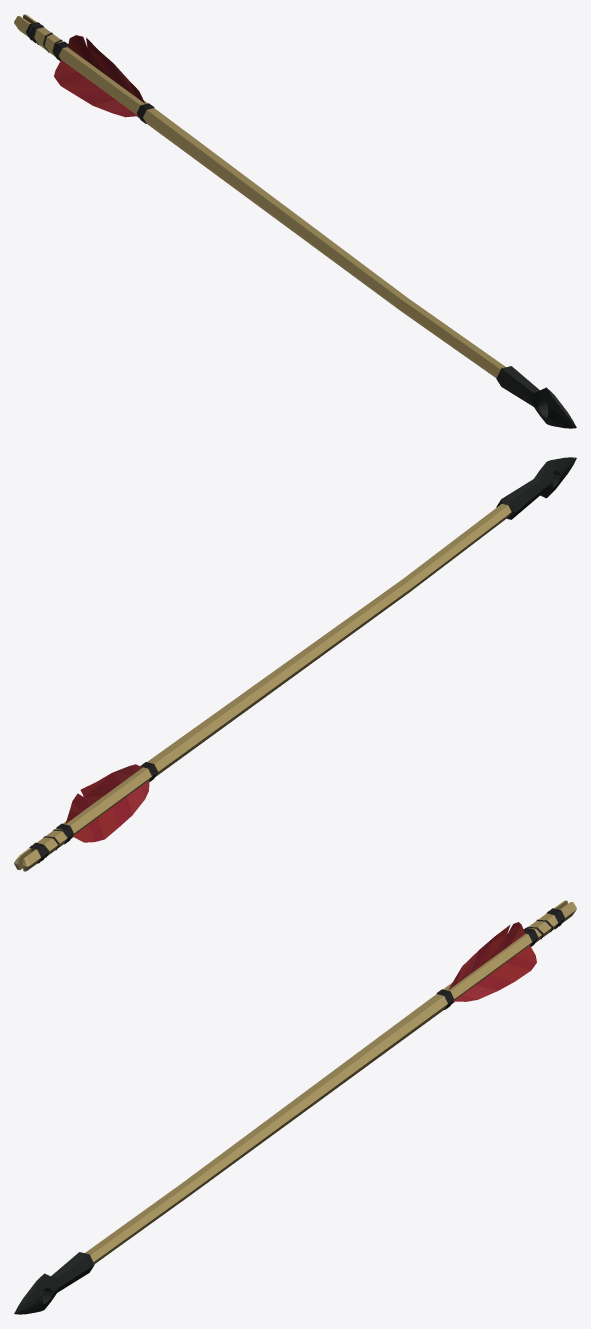
Rendered from lightSharpHollowArrow.glb.
The picture shows the model from 3 angles, top to bottom: view 1: azimuth 30°, elevation 25°; view 2: azimuth 150°, elevation 25°; view 3: azimuth 330°, elevation 25°; orthographic projection.
Parts seen in each view (by area): view 1: lightSharpHollowArrow; view 2: lightSharpHollowArrow; view 3: lightSharpHollowArrow.
Boxes of the visible parts, x1,y1,x2,y2 form: lightSharpHollowArrow: [14, 14, 576, 428]; lightSharpHollowArrow: [14, 457, 576, 871]; lightSharpHollowArrow: [14, 900, 576, 1314].
Size of the model in its own units: 0.0484 by 0.0481 by 1.03.
